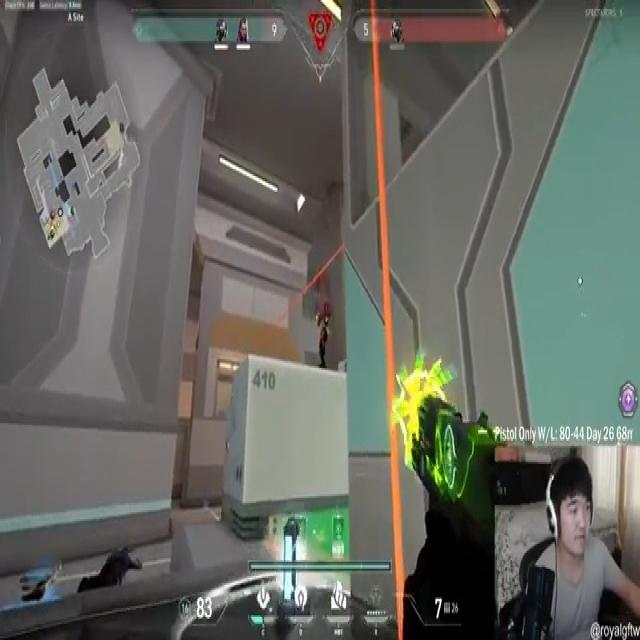enemy: (316, 296, 332, 368)
spike-planted: (278, 516, 302, 621)
